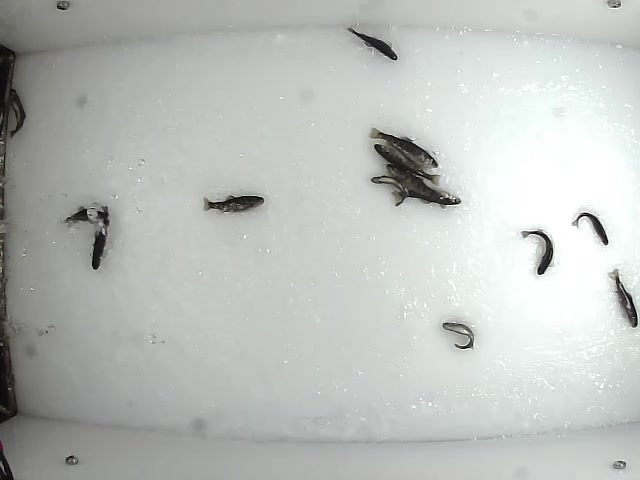fish: (366, 125, 442, 170), (371, 143, 445, 186), (384, 163, 447, 209), (606, 269, 640, 331), (345, 25, 399, 61), (392, 181, 464, 207), (88, 204, 112, 273), (521, 228, 554, 276), (570, 210, 610, 249), (200, 195, 266, 214), (6, 87, 28, 140), (440, 319, 477, 350), (371, 175, 408, 206), (65, 206, 109, 225)
